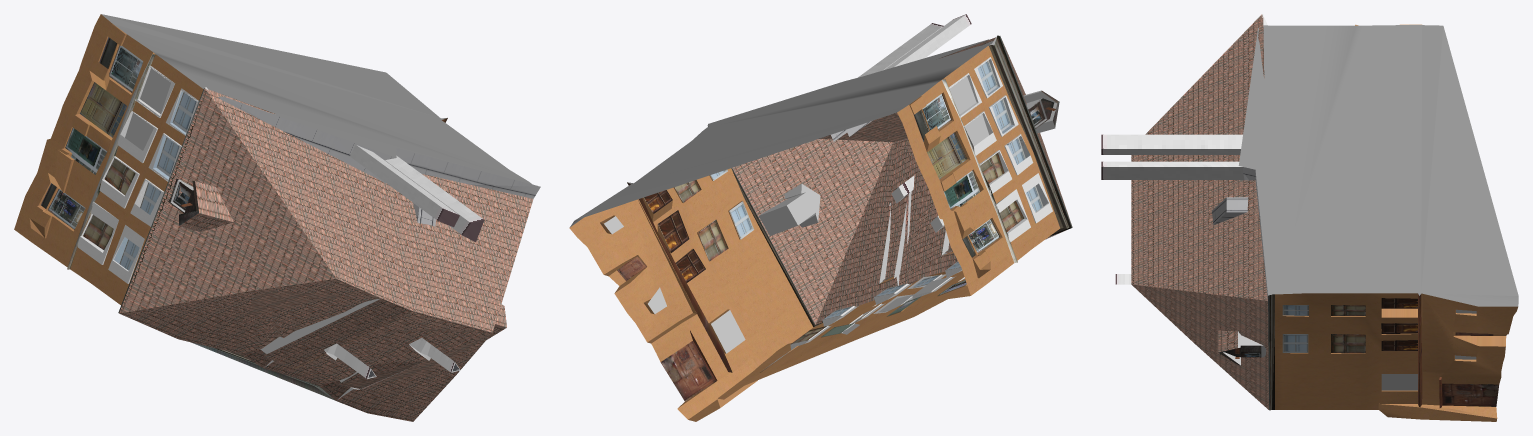
The model's file is Pikk_34-origo.obj.
3 views of the same model, side by side, from view 1: azimuth 30°, elevation 25°; view 2: azimuth 150°, elevation 25°; view 3: azimuth 270°, elevation 25° (orthographic). The views are drawn at different scales.
Parts seen in each view (by area): view 1: Pikk_34; view 2: Pikk_34; view 3: Pikk_34.
Part boxes in pixels (x1,y1,x2,y2): Pikk_34: (14,14,540,421); Pikk_34: (569,14,1072,421); Pikk_34: (1101,14,1518,421).
Size of the model in its own units: 22.12 by 19.5 by 22.98.
